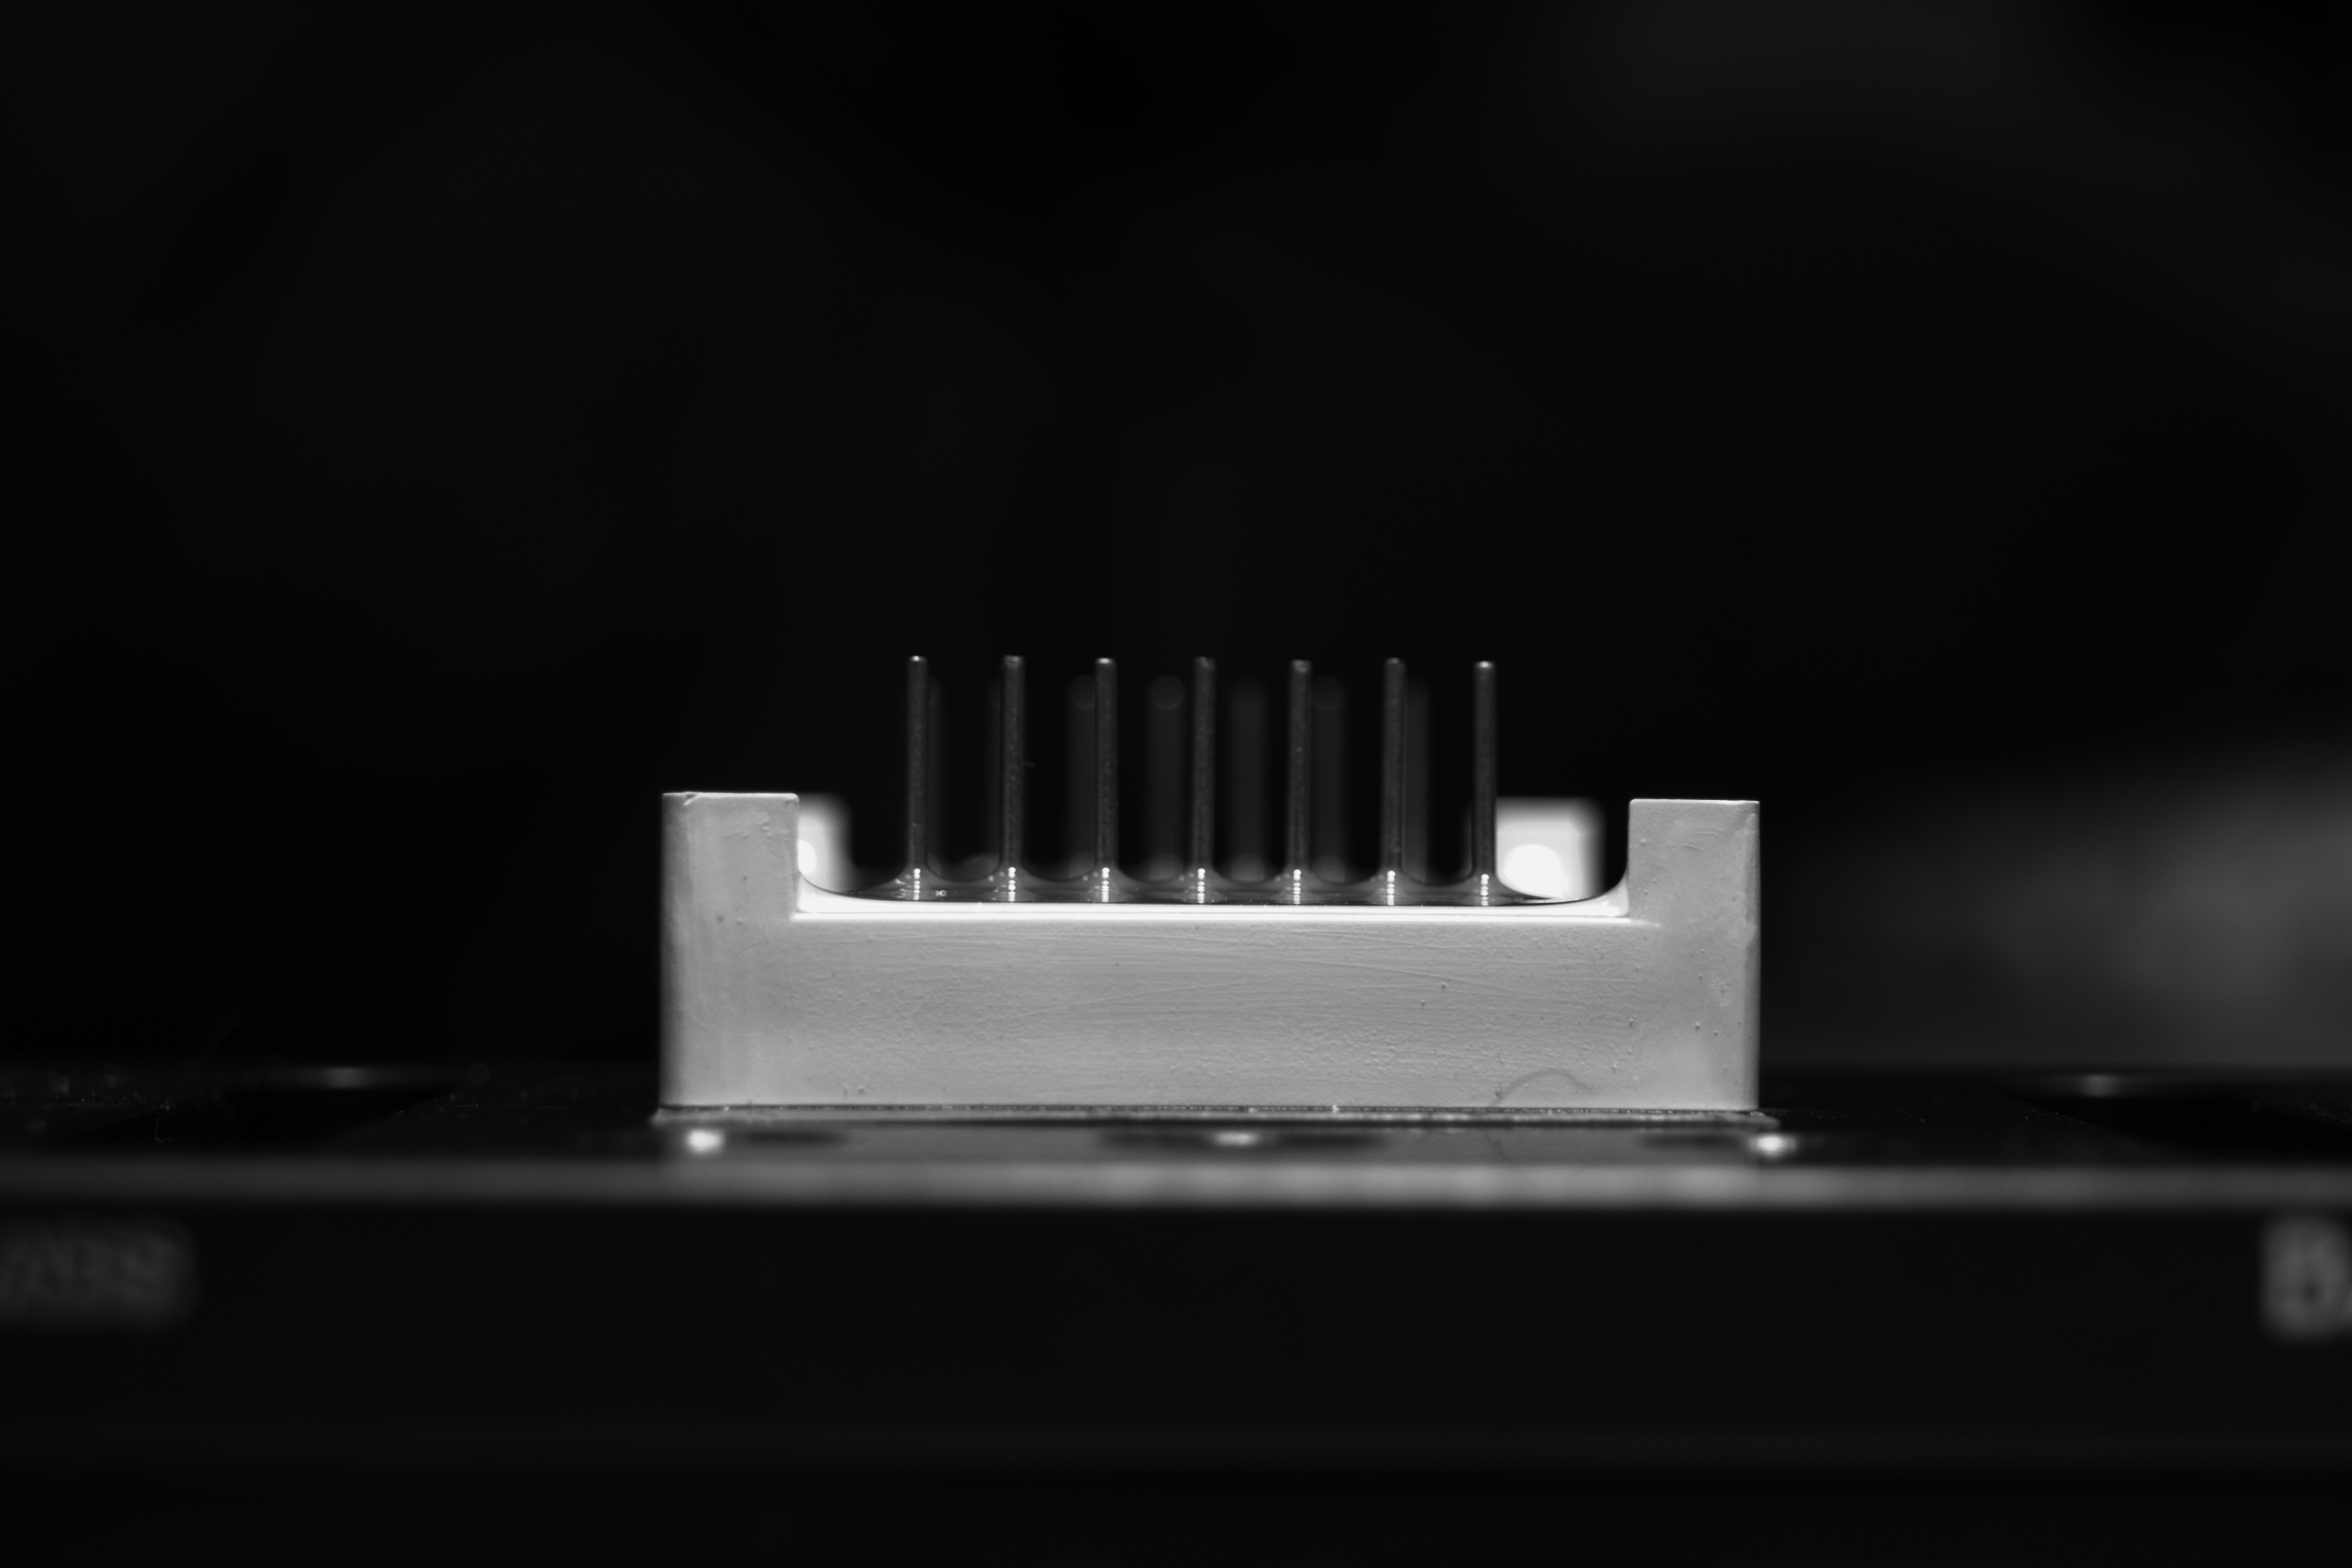Component: (656, 649, 1764, 1118)
